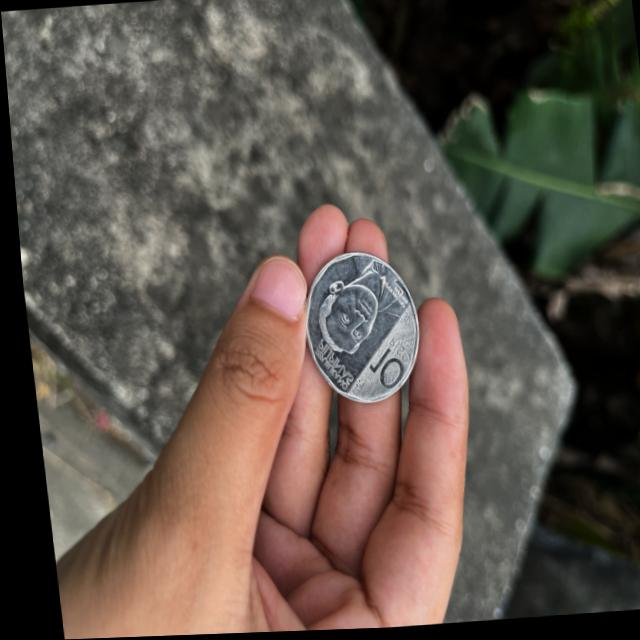10_New_Front: (362, 341, 407, 391)
